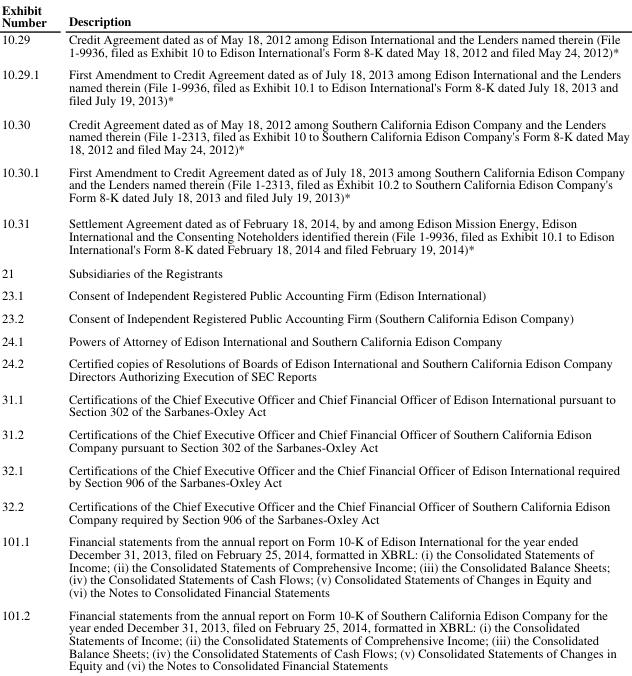table: (0, 0, 628, 672)
table column: (56, 0, 628, 672), (0, 0, 56, 672)
table column header: (0, 0, 628, 30)
table row: (0, 529, 628, 602), (0, 602, 628, 672), (0, 159, 628, 209), (0, 209, 628, 259), (0, 110, 628, 159), (0, 62, 628, 110), (0, 421, 628, 457), (0, 457, 628, 493), (0, 493, 628, 529), (0, 351, 628, 386), (0, 386, 628, 421), (0, 30, 628, 62), (0, 0, 628, 30), (0, 259, 628, 283), (0, 305, 628, 328), (0, 328, 628, 351), (0, 283, 628, 305)
